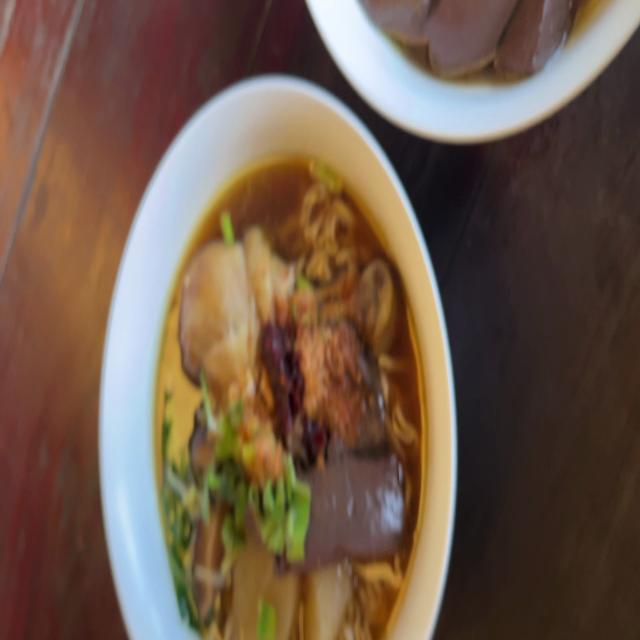noodle: (134, 137, 449, 640), (334, 0, 620, 100)
